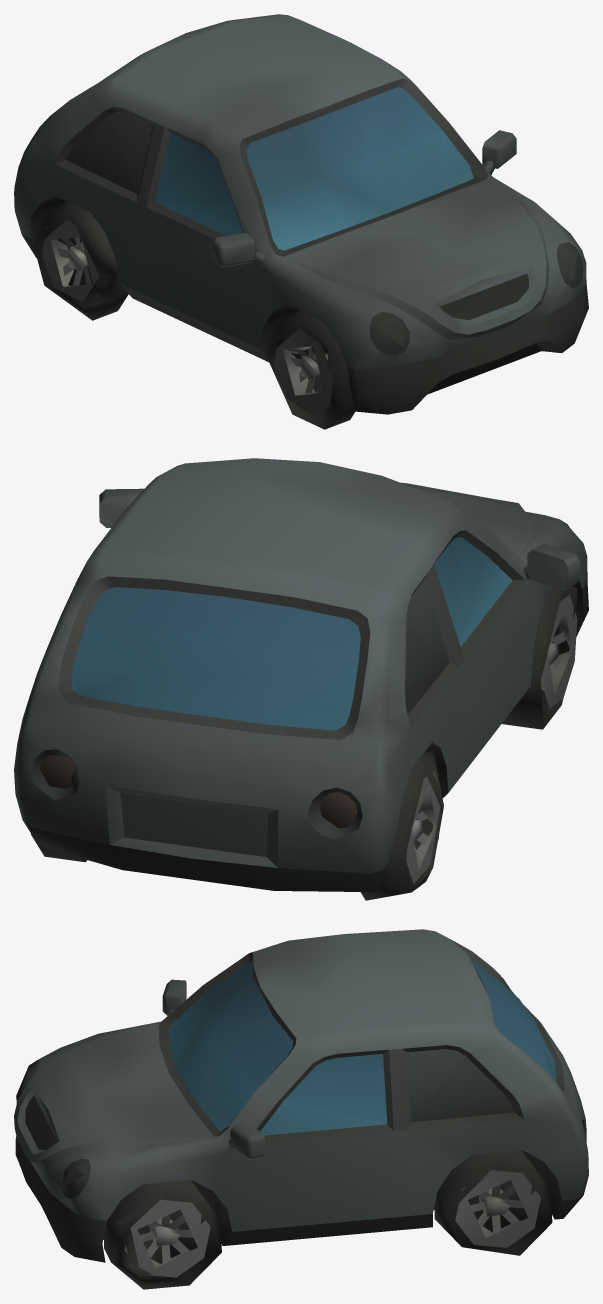
File: ct_car_a.glb
The picture shows the model from 3 angles, top to bottom: view 1: azimuth 30°, elevation 25°; view 2: azimuth 150°, elevation 25°; view 3: azimuth 270°, elevation 25°; orthographic projection. The views are drawn at different scales.
Parts seen in each view (by area): view 1: ct_car_a; view 2: ct_car_a; view 3: ct_car_a.
Boxes of the visible parts, x1,y1,x2,y2 form: ct_car_a: (14, 14, 588, 429); ct_car_a: (14, 458, 588, 900); ct_car_a: (14, 929, 588, 1289).
Size of the model in its own units: 2.67 by 1.7 by 3.75.
